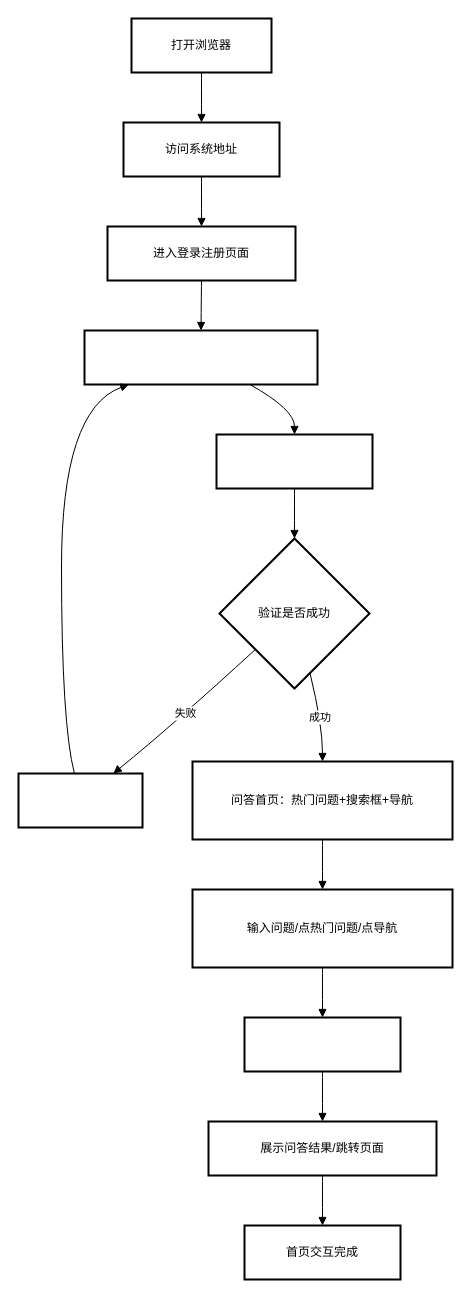
Image size: 470x1297. Some labels were removed from this diagram. The shapes that lost their labels are listed below. From the top down, each one's centre as x and y in pixels, then its label:
At point (200, 357): "选择登录/注册 填写信息".
At point (294, 461): "系统校验信息".
At point (80, 800): "提示错误".
At point (322, 1044): "系统处理请求".
